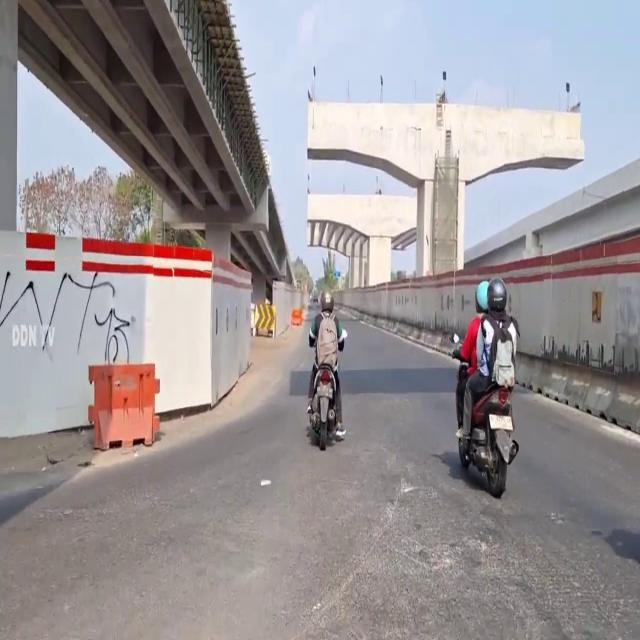WithHelmet: (459, 277, 521, 463), (451, 279, 490, 439), (306, 290, 346, 438)
